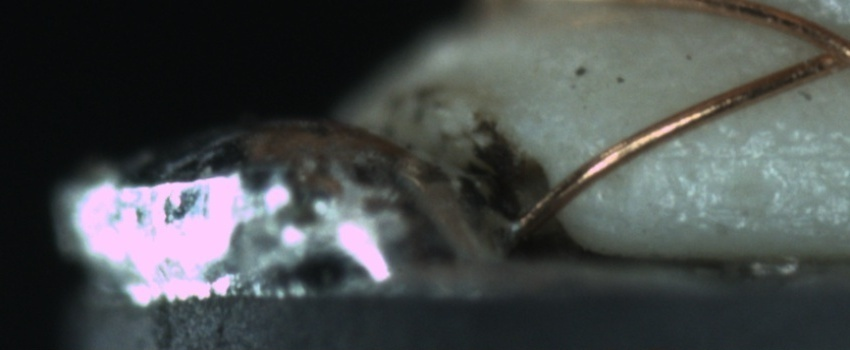CL: (801, 14, 848, 80)
DL: (670, 121, 849, 185)
